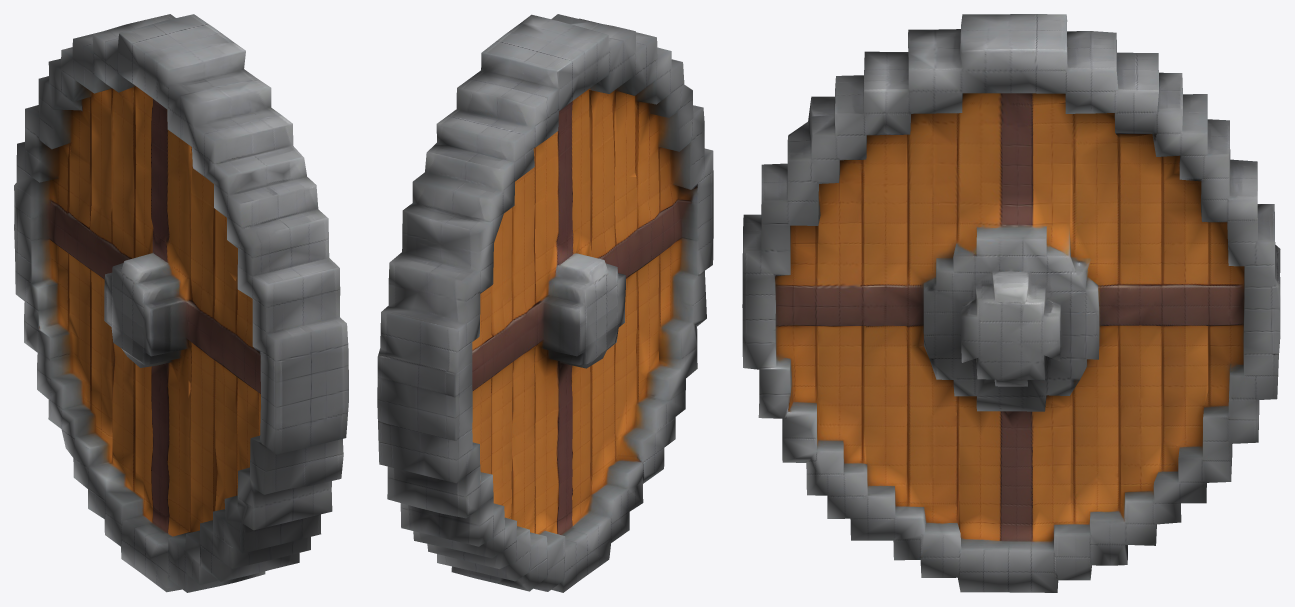
File: escudo-redondo.glb
3 views of the same model, side by side, from view 1: azimuth 30°, elevation 25°; view 2: azimuth 150°, elevation 25°; view 3: azimuth 270°, elevation 25° (orthographic). The views are drawn at different scales.
Visible parts, largest first — view 1: tripo_node_6fd80911-b50f-46ec-a822-4b7967e26766; view 2: tripo_node_6fd80911-b50f-46ec-a822-4b7967e26766; view 3: tripo_node_6fd80911-b50f-46ec-a822-4b7967e26766.
Part boxes in pixels (x1=…): tripo_node_6fd80911-b50f-46ec-a822-4b7967e26766: x1=14, y1=14, x2=348, y2=592; tripo_node_6fd80911-b50f-46ec-a822-4b7967e26766: x1=377, y1=14, x2=713, y2=592; tripo_node_6fd80911-b50f-46ec-a822-4b7967e26766: x1=742, y1=14, x2=1280, y2=592.
Bounding box in the file's own units: 0.264 × 1 × 0.898.
Materials: 1 (1 with a texture image).
